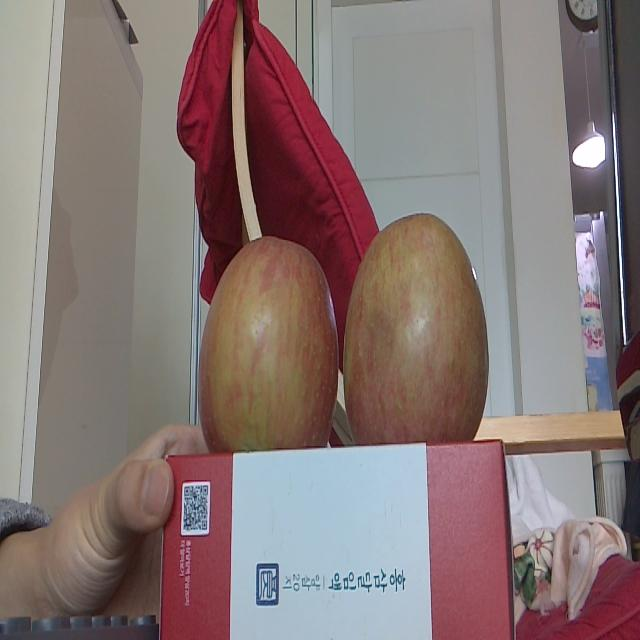apple: (342, 214, 487, 442), (198, 237, 338, 446)
